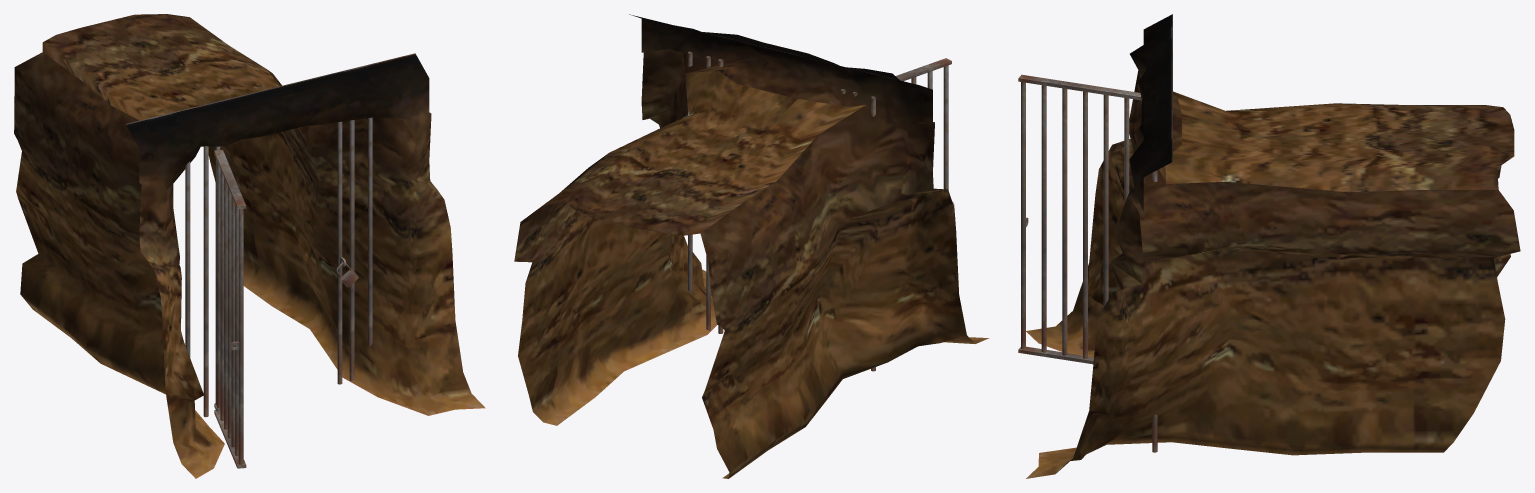
Rendered from tunnelDoorB.fbx.
3 views of the same model, side by side, from view 1: azimuth 30°, elevation 25°; view 2: azimuth 150°, elevation 25°; view 3: azimuth 270°, elevation 25° (orthographic). The views are drawn at different scales.
Parts seen in each view (by area): view 1: tunnelDoorB; view 2: tunnelDoorB; view 3: tunnelDoorB.
Part boxes in pixels (<box>): tunnelDoorB: <box>14,14,485,478</box>; tunnelDoorB: <box>514,14,989,478</box>; tunnelDoorB: <box>1018,14,1520,478</box>.
Size of the model in its own units: 300 by 300 by 431.
